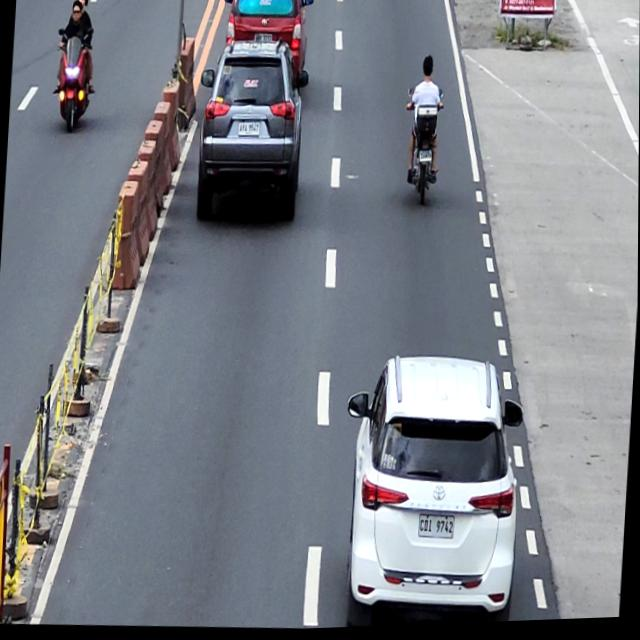Car: (335, 353, 528, 630), (194, 41, 312, 232), (219, 0, 314, 81)
License-Plate: (417, 515, 457, 544), (238, 122, 261, 139), (418, 152, 433, 165), (254, 35, 273, 45)
Motorcycle: (400, 90, 445, 211), (52, 27, 94, 133)
